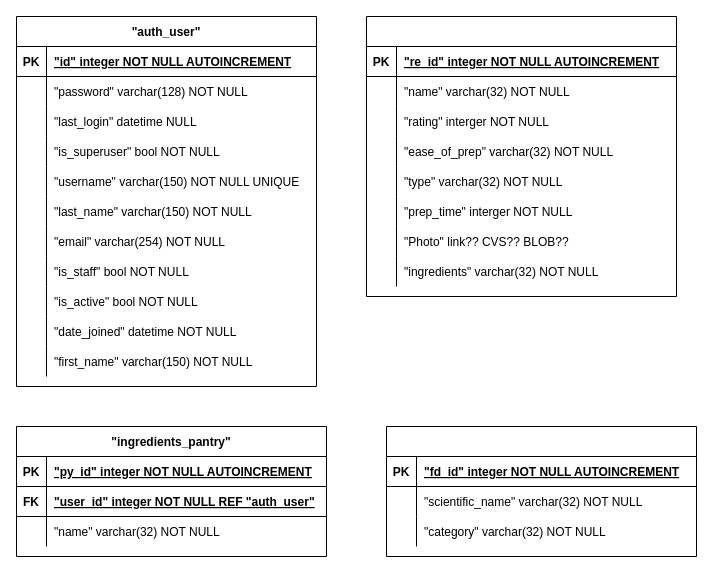
Some shapes in this 713 by 573 pixel diagram are drawn without their labels. The shapes that lost their labels are listed below. From the top down, each one's box as (x1, y1, x2, y2) in pixels, then its label:
(366, 16, 676, 296): "recipe"
(386, 426, 696, 556): "ingredients_food"
